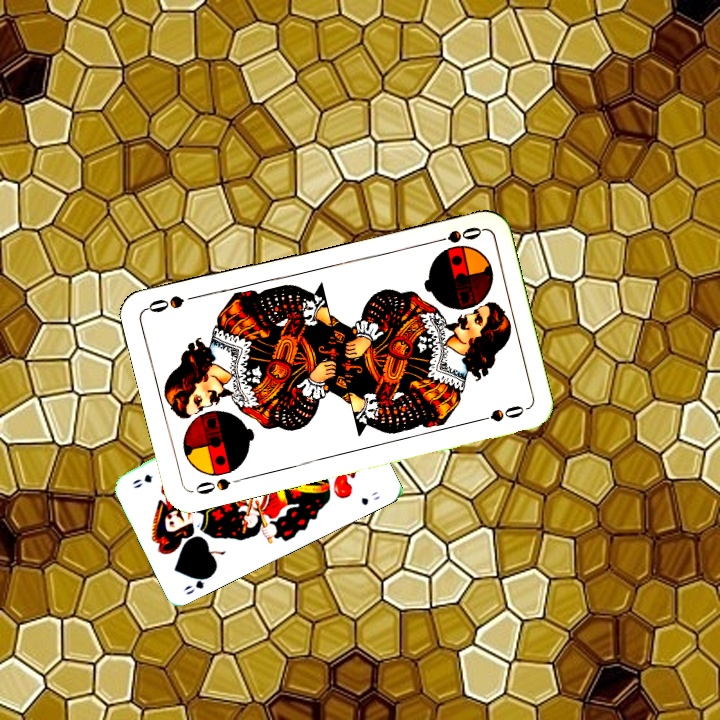GO: (179, 569, 216, 597)
SO: (426, 222, 485, 247), (188, 473, 247, 497)
